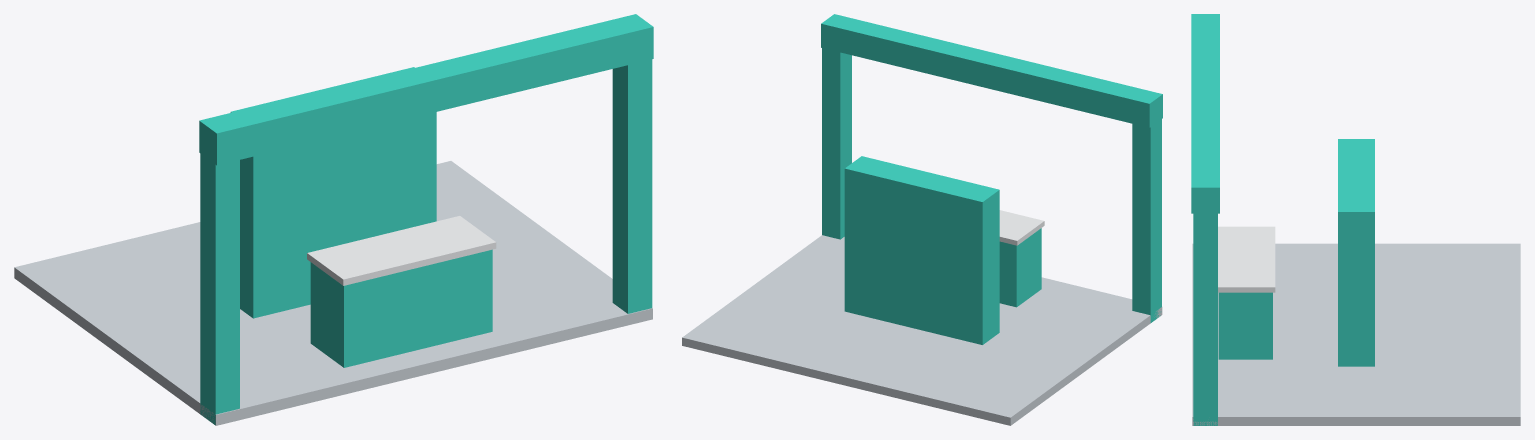
3 renders of one model, left to right at view 1: azimuth 30°, elevation 25°; view 2: azimuth 150°, elevation 25°; view 3: azimuth 270°, elevation 25°, orthographic. The views are drawn at different scales.
Visible parts, largest first — view 1: Exhibition Booth Concept; view 2: Exhibition Booth Concept; view 3: Exhibition Booth Concept.
Boxes of the visible parts, x1,y1,x2,y2 form: Exhibition Booth Concept: (14,14,653,425); Exhibition Booth Concept: (682,14,1162,425); Exhibition Booth Concept: (1191,14,1520,425).
Bounding box in the file's own units: 5 × 3.2 × 4.02.
